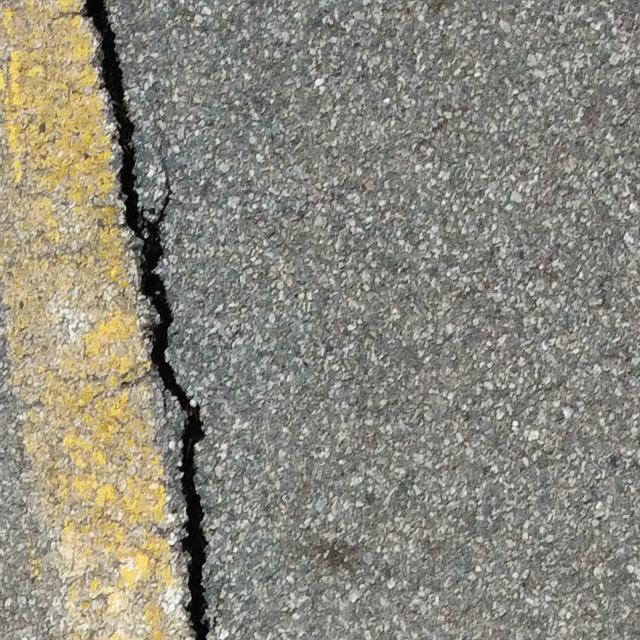LongitudinalCrack: (80, 1, 214, 640)
